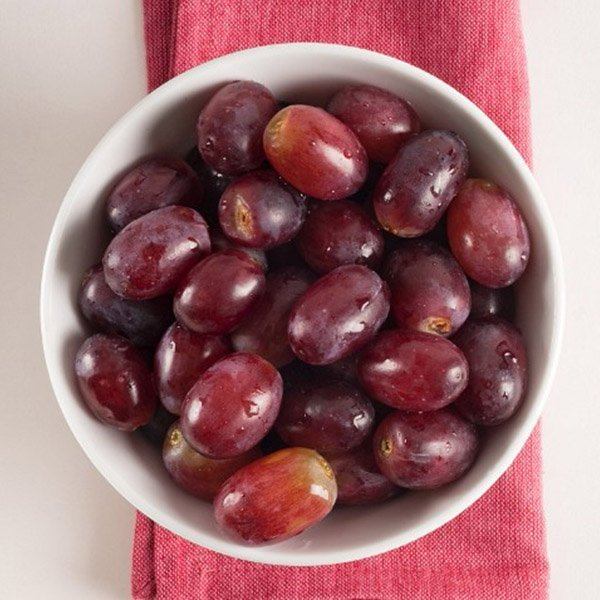Red Grapes: (85, 85, 542, 561), (185, 350, 298, 458), (267, 104, 373, 204)
